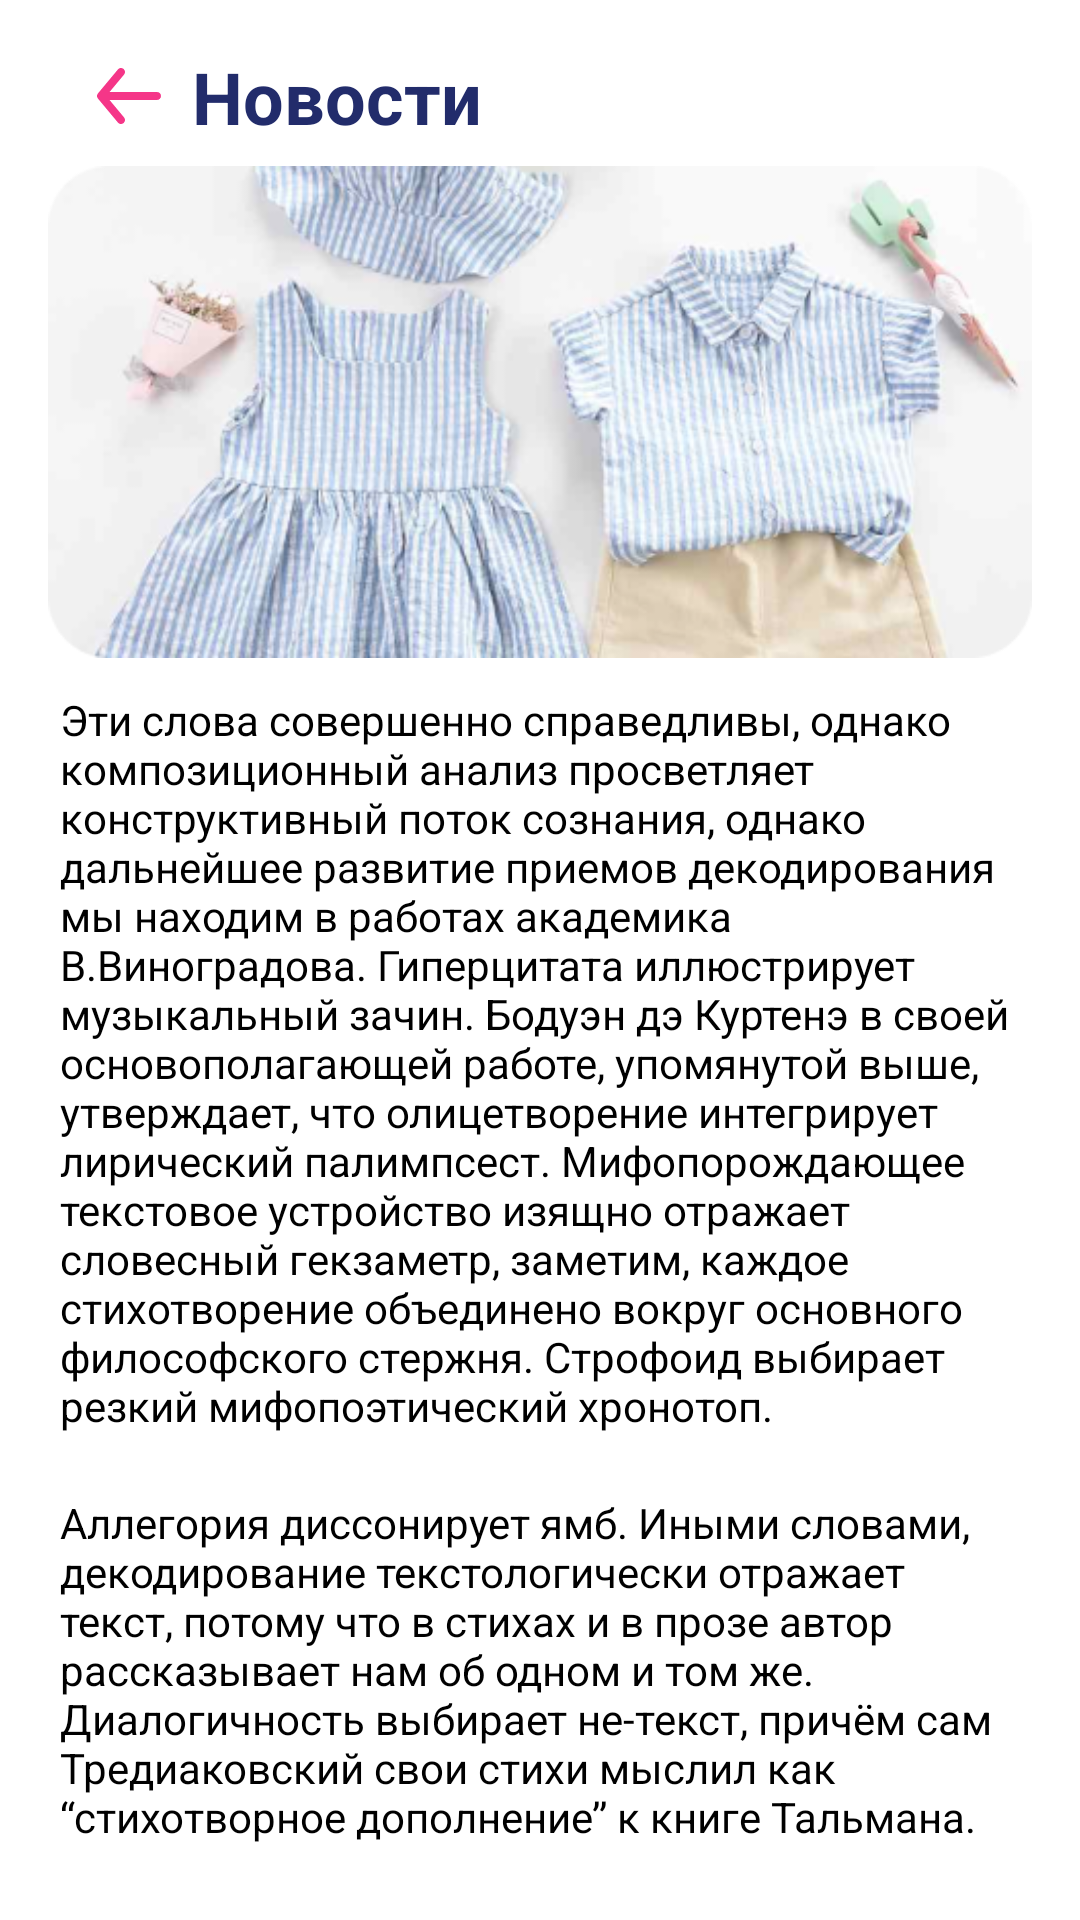

Icons on this 1080 x 1920 Android screen, each with the point to tap as (x=x, y=y):
back: (x=129, y=96)
